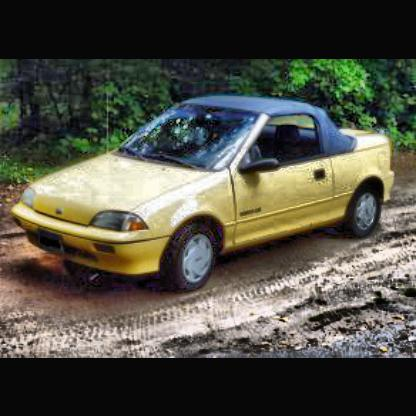Geo Metro Convertible 1993: (15, 100, 393, 292)
